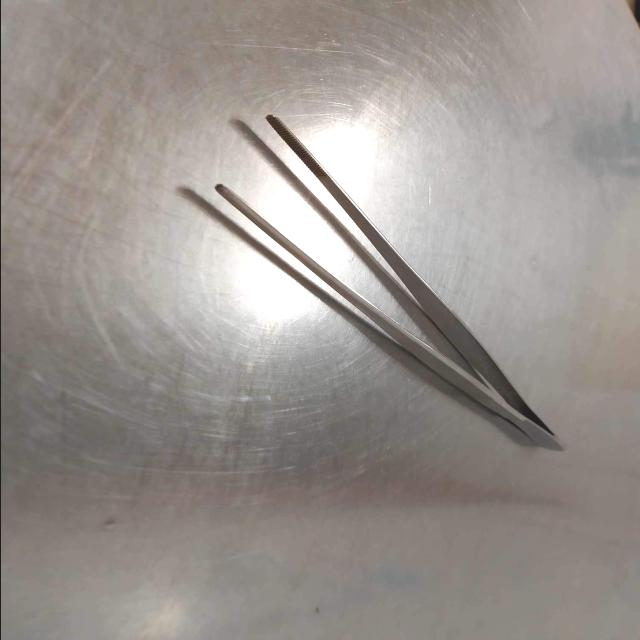Pathological: (2, 3, 638, 638)
Sharps: (213, 115, 566, 452)
